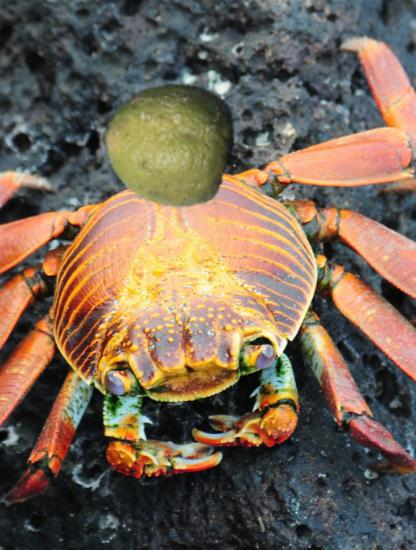Limes: (103, 75, 239, 211)
